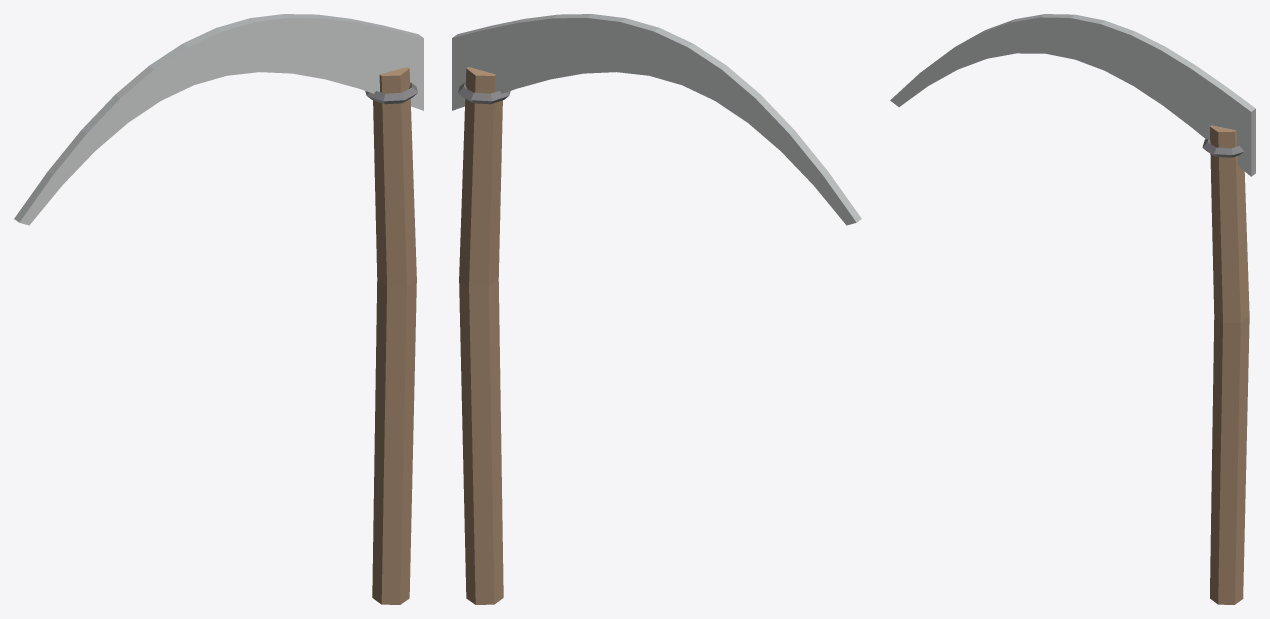
File: scythe.glb
3 renders of one model, left to right at view 1: azimuth 30°, elevation 25°; view 2: azimuth 150°, elevation 25°; view 3: azimuth 330°, elevation 25°, orthographic. The views are drawn at different scales.
Parts seen in each view (by area): view 1: metal, wood; view 2: metal, wood; view 3: wood, metal.
Part boxes in pixels (bbox=[...]): metal: bbox=[14, 14, 423, 225]; wood: bbox=[372, 67, 416, 604]; metal: bbox=[452, 14, 861, 225]; wood: bbox=[459, 67, 503, 604]; wood: bbox=[1210, 125, 1249, 604]; metal: bbox=[890, 14, 1255, 176].
Bounding box in the file's own units: 0.4 × 0.5781 × 0.048.
